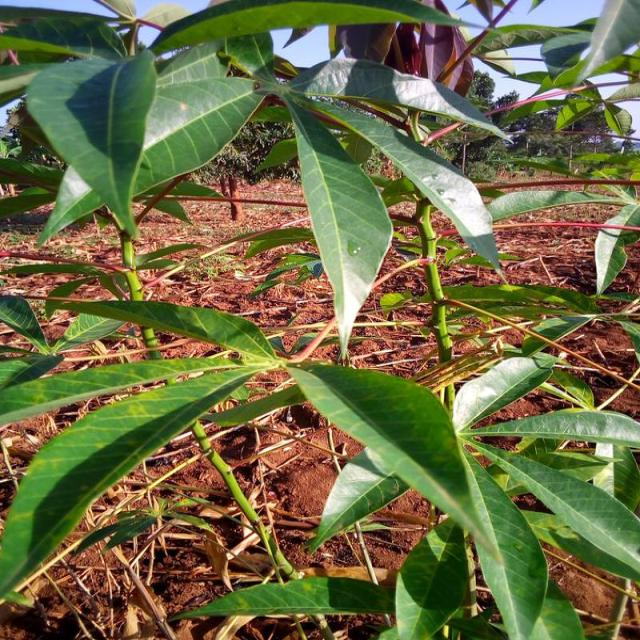cassava leaf: (0, 357, 264, 607), (282, 85, 393, 358), (24, 47, 157, 245)
